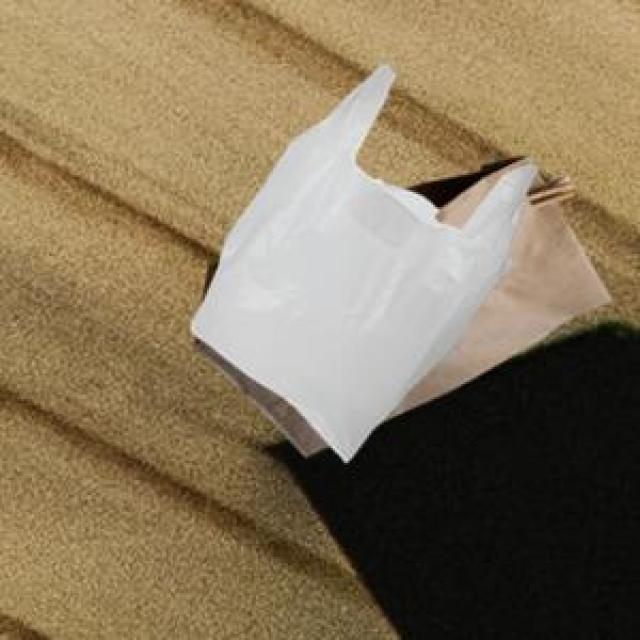paper: (192, 152, 606, 452)
